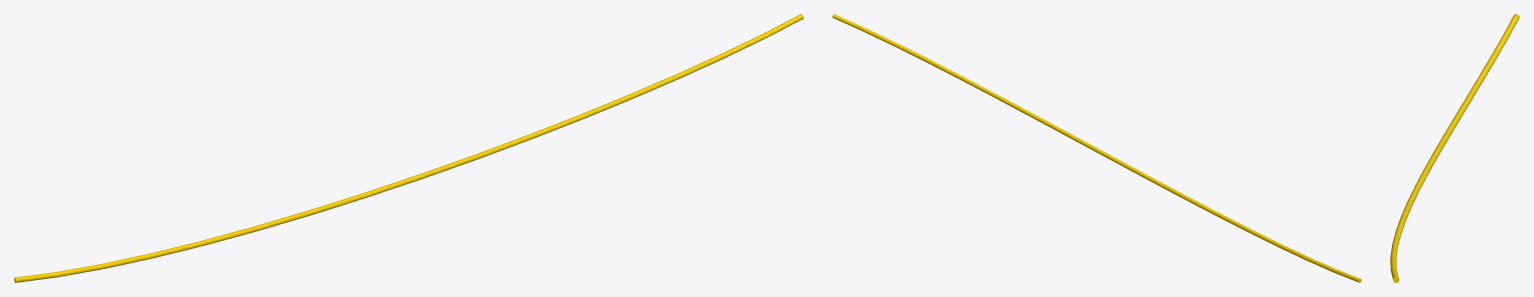
File: Event_421115418_track_155.fbx
3 renders of one model, left to right at view 1: azimuth 30°, elevation 25°; view 2: azimuth 150°, elevation 25°; view 3: azimuth 270°, elevation 25°, orthographic. The views are drawn at different scales.
Parts seen in each view (by area): view 1: Model; view 2: Model; view 3: Model.
Part boxes in pixels (box(x1,y1,x2,y2)): Model: box(14, 14, 803, 282); Model: box(832, 14, 1361, 282); Model: box(1390, 14, 1519, 282).
Bounding box in the file's own units: 6.12 × 1.03 × 0.83.
